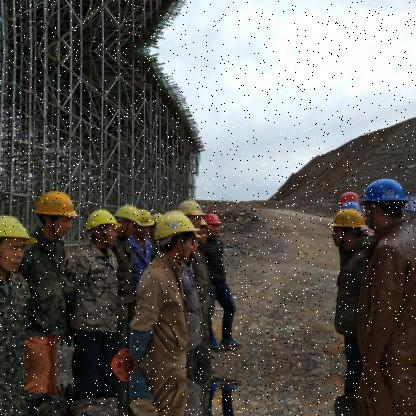helmet: (360, 173, 413, 230), (32, 185, 84, 240), (157, 206, 201, 262), (328, 204, 372, 249), (3, 208, 33, 272), (87, 206, 119, 243), (120, 202, 143, 238), (183, 196, 203, 227), (137, 207, 154, 240), (206, 213, 224, 238)
